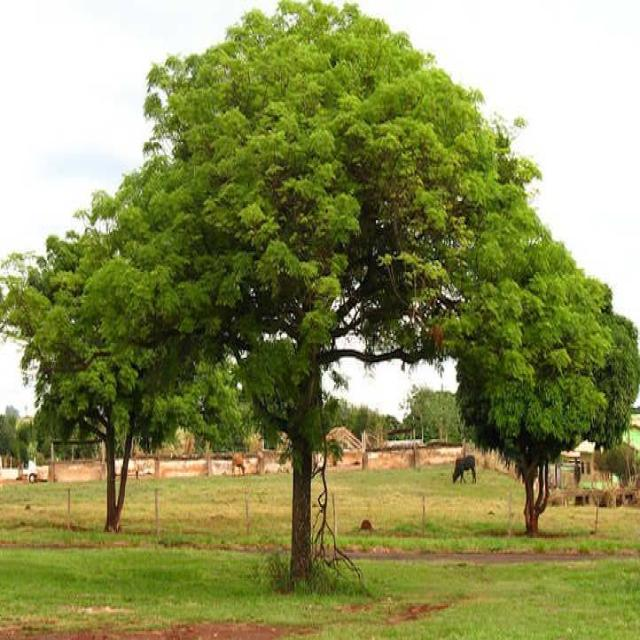Mango-Tree: (68, 50, 616, 524)
